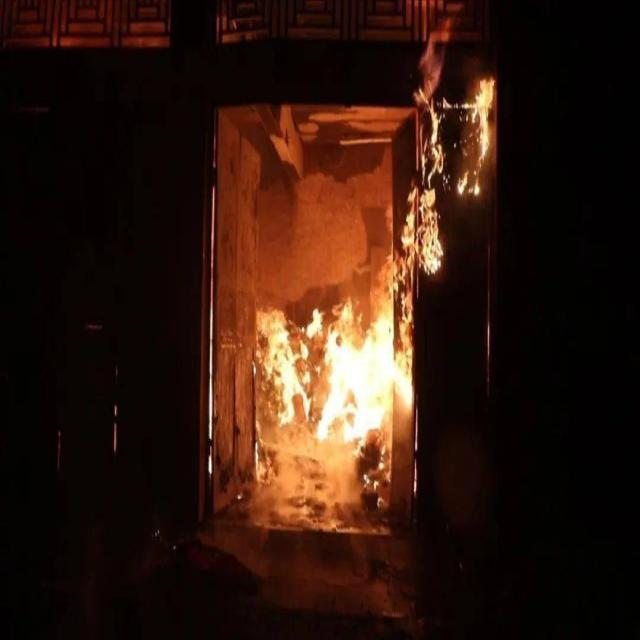Fire: (318, 321, 412, 436), (426, 76, 494, 195), (262, 307, 322, 425), (399, 185, 442, 317)
